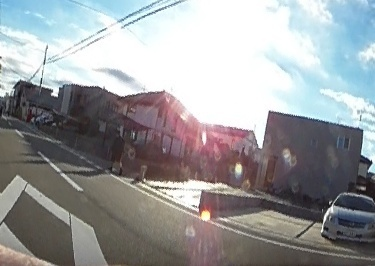person: (106, 127, 124, 170)
